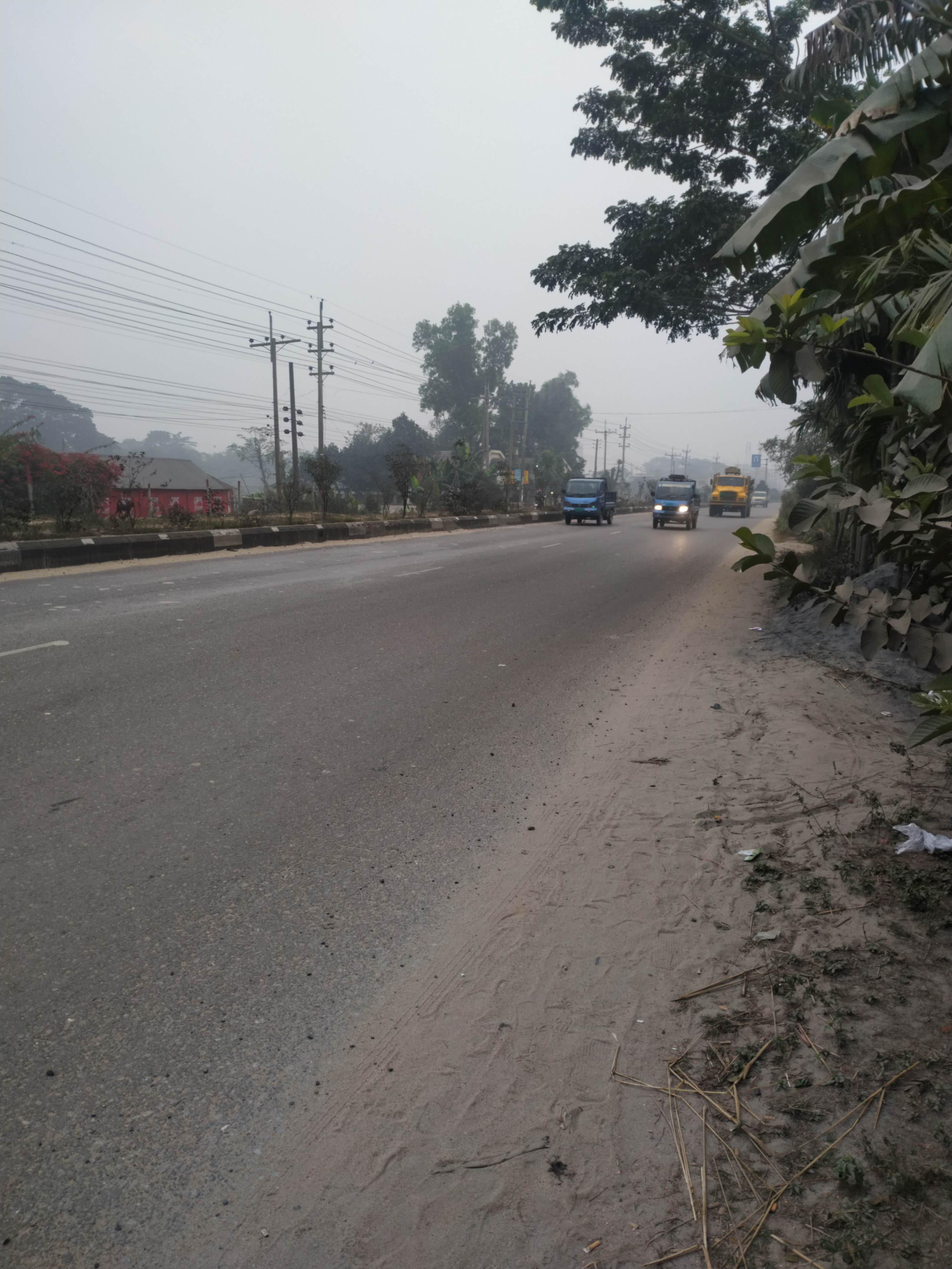Truck: (547, 465, 631, 531), (644, 466, 712, 547), (702, 461, 763, 541)
